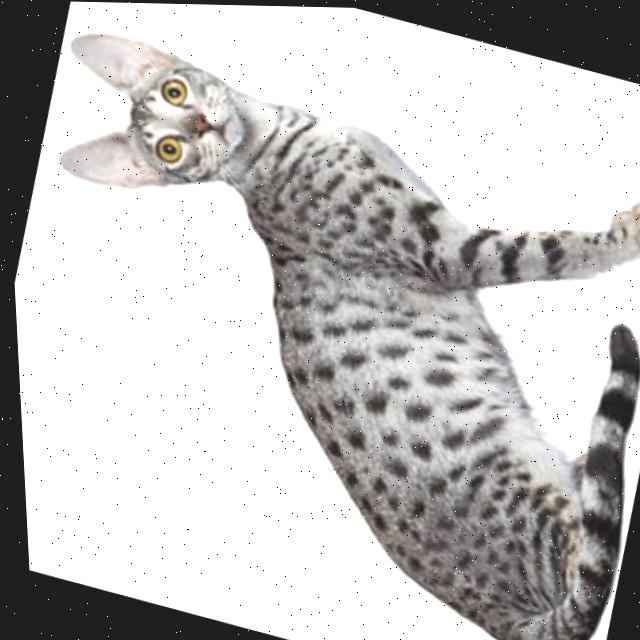Savannah: (0, 12, 640, 640)
